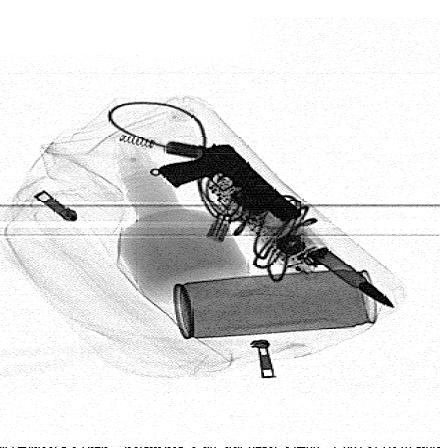Bullet: (307, 245, 396, 307)
Gun: (155, 143, 305, 222)
